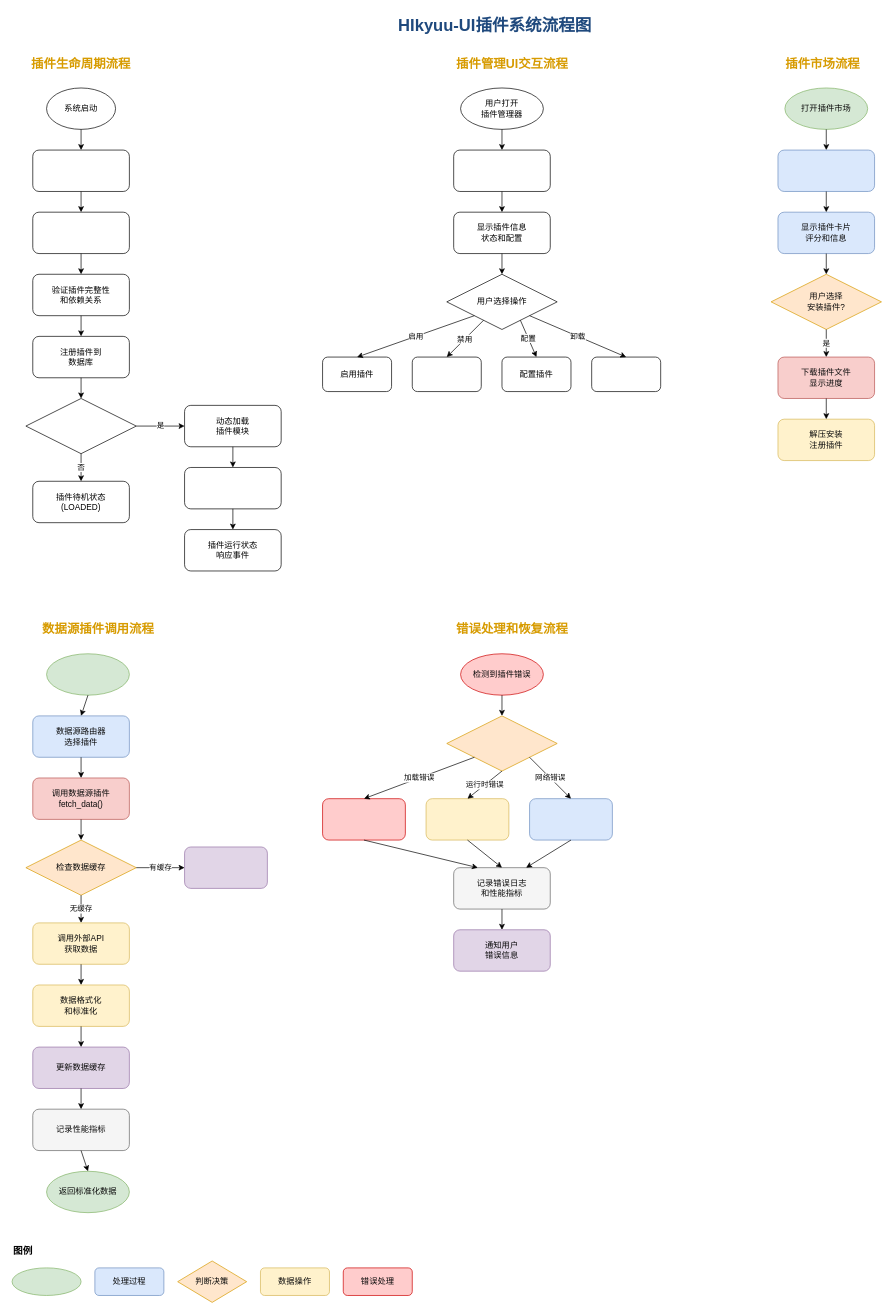
Image size: 894x1314. Some labels were removed from this diagram. Each missing label, with the box of its shape:
初始化插件 传递上下文: (184, 467, 281, 509)
加载错误 标记为ERROR: (322, 798, 405, 840)
卸载插件: (591, 356, 661, 392)
开始/结束: (11, 1267, 81, 1295)
异步加载 插件列表: (453, 149, 550, 191)
扫描插件目录: (32, 149, 129, 191)
插件是否 设置为启用?: (25, 398, 136, 454)
搜索/浏览 插件: (777, 149, 875, 191)
数据管理器 接收数据请求: (46, 653, 129, 695)
禁用插件: (412, 356, 481, 392)
网络错误 切换数据源: (529, 798, 612, 840)
解析插件元数据 (plugin.json): (32, 211, 129, 254)
运行时错误 自动重试: (425, 798, 509, 840)
返回缓存数据: (184, 846, 267, 888)
错误类型分类: (446, 715, 557, 771)
